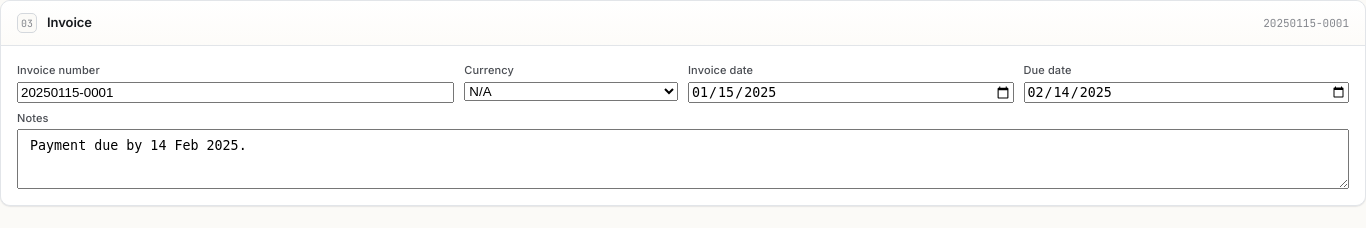
InvoiceDetailsForm › Reset brings back the generated note, which then follows the due date again
Replace the text in the text box labelled "Notes" with "Custom note" at (683, 159), box [17,129,1349,189]
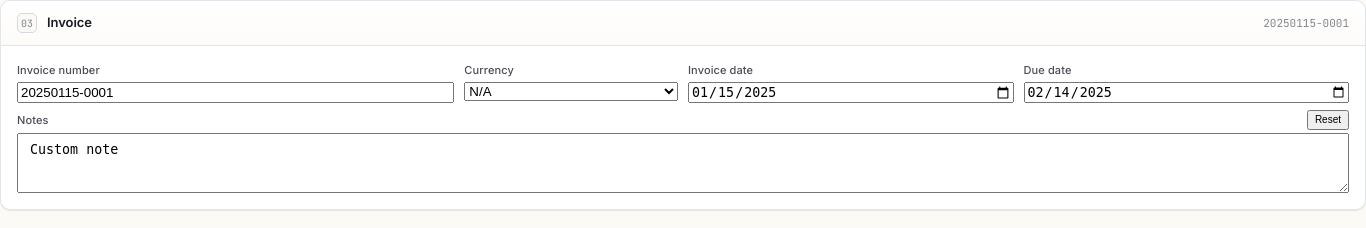
Click the button "Reset" at (1328, 120), box [1307,110,1349,130]
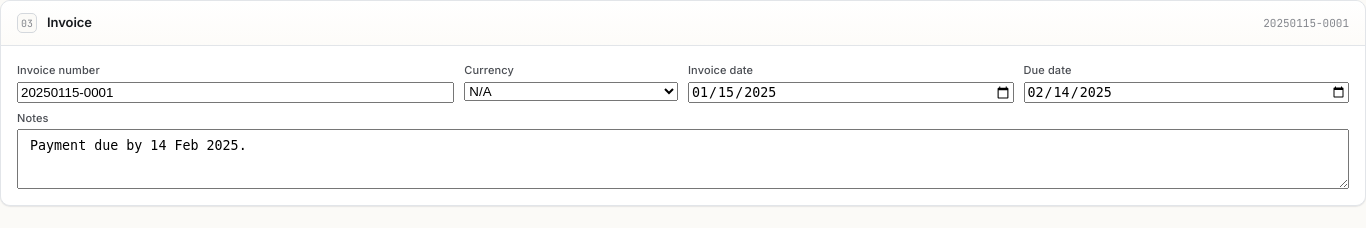
Result: the text box labelled "Notes" holds "Payment due by 14 Feb 2025." at [17,129,1349,189]
Result: the button "Reset" is gone
Type "2025-05-01" into the date field labelled "Invoice date" at (851, 92), box [688,82,1014,103]
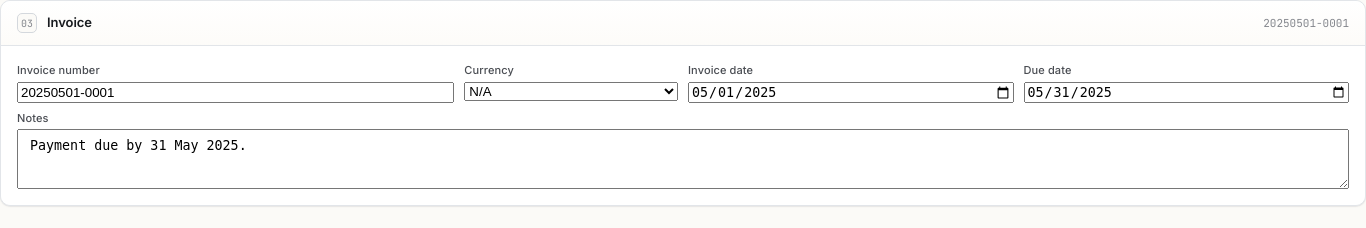
Result: the text box labelled "Notes" holds "Payment due by 31 May 2025." at [17,129,1349,189]
